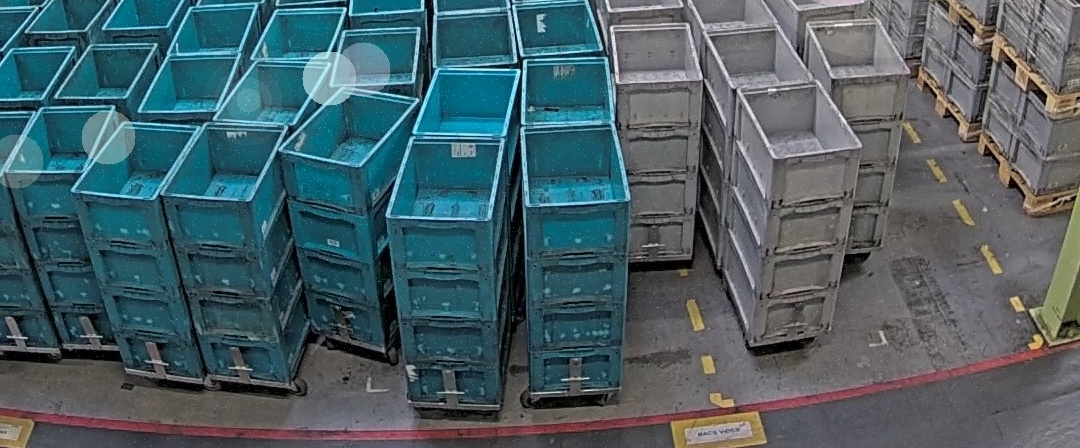4G: (721, 80, 863, 343), (802, 18, 912, 250), (609, 22, 704, 259)
B4: (158, 119, 312, 383), (276, 85, 422, 348), (384, 134, 513, 406), (70, 120, 204, 381), (519, 120, 632, 393), (7, 104, 130, 348)
